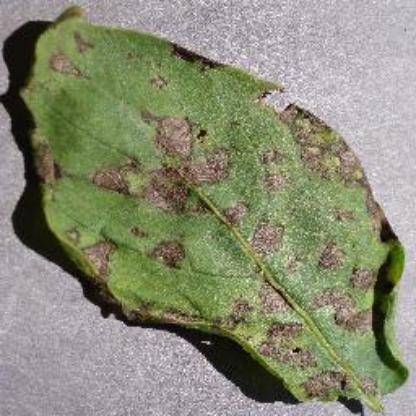Early-Blight: (16, 4, 410, 410)
